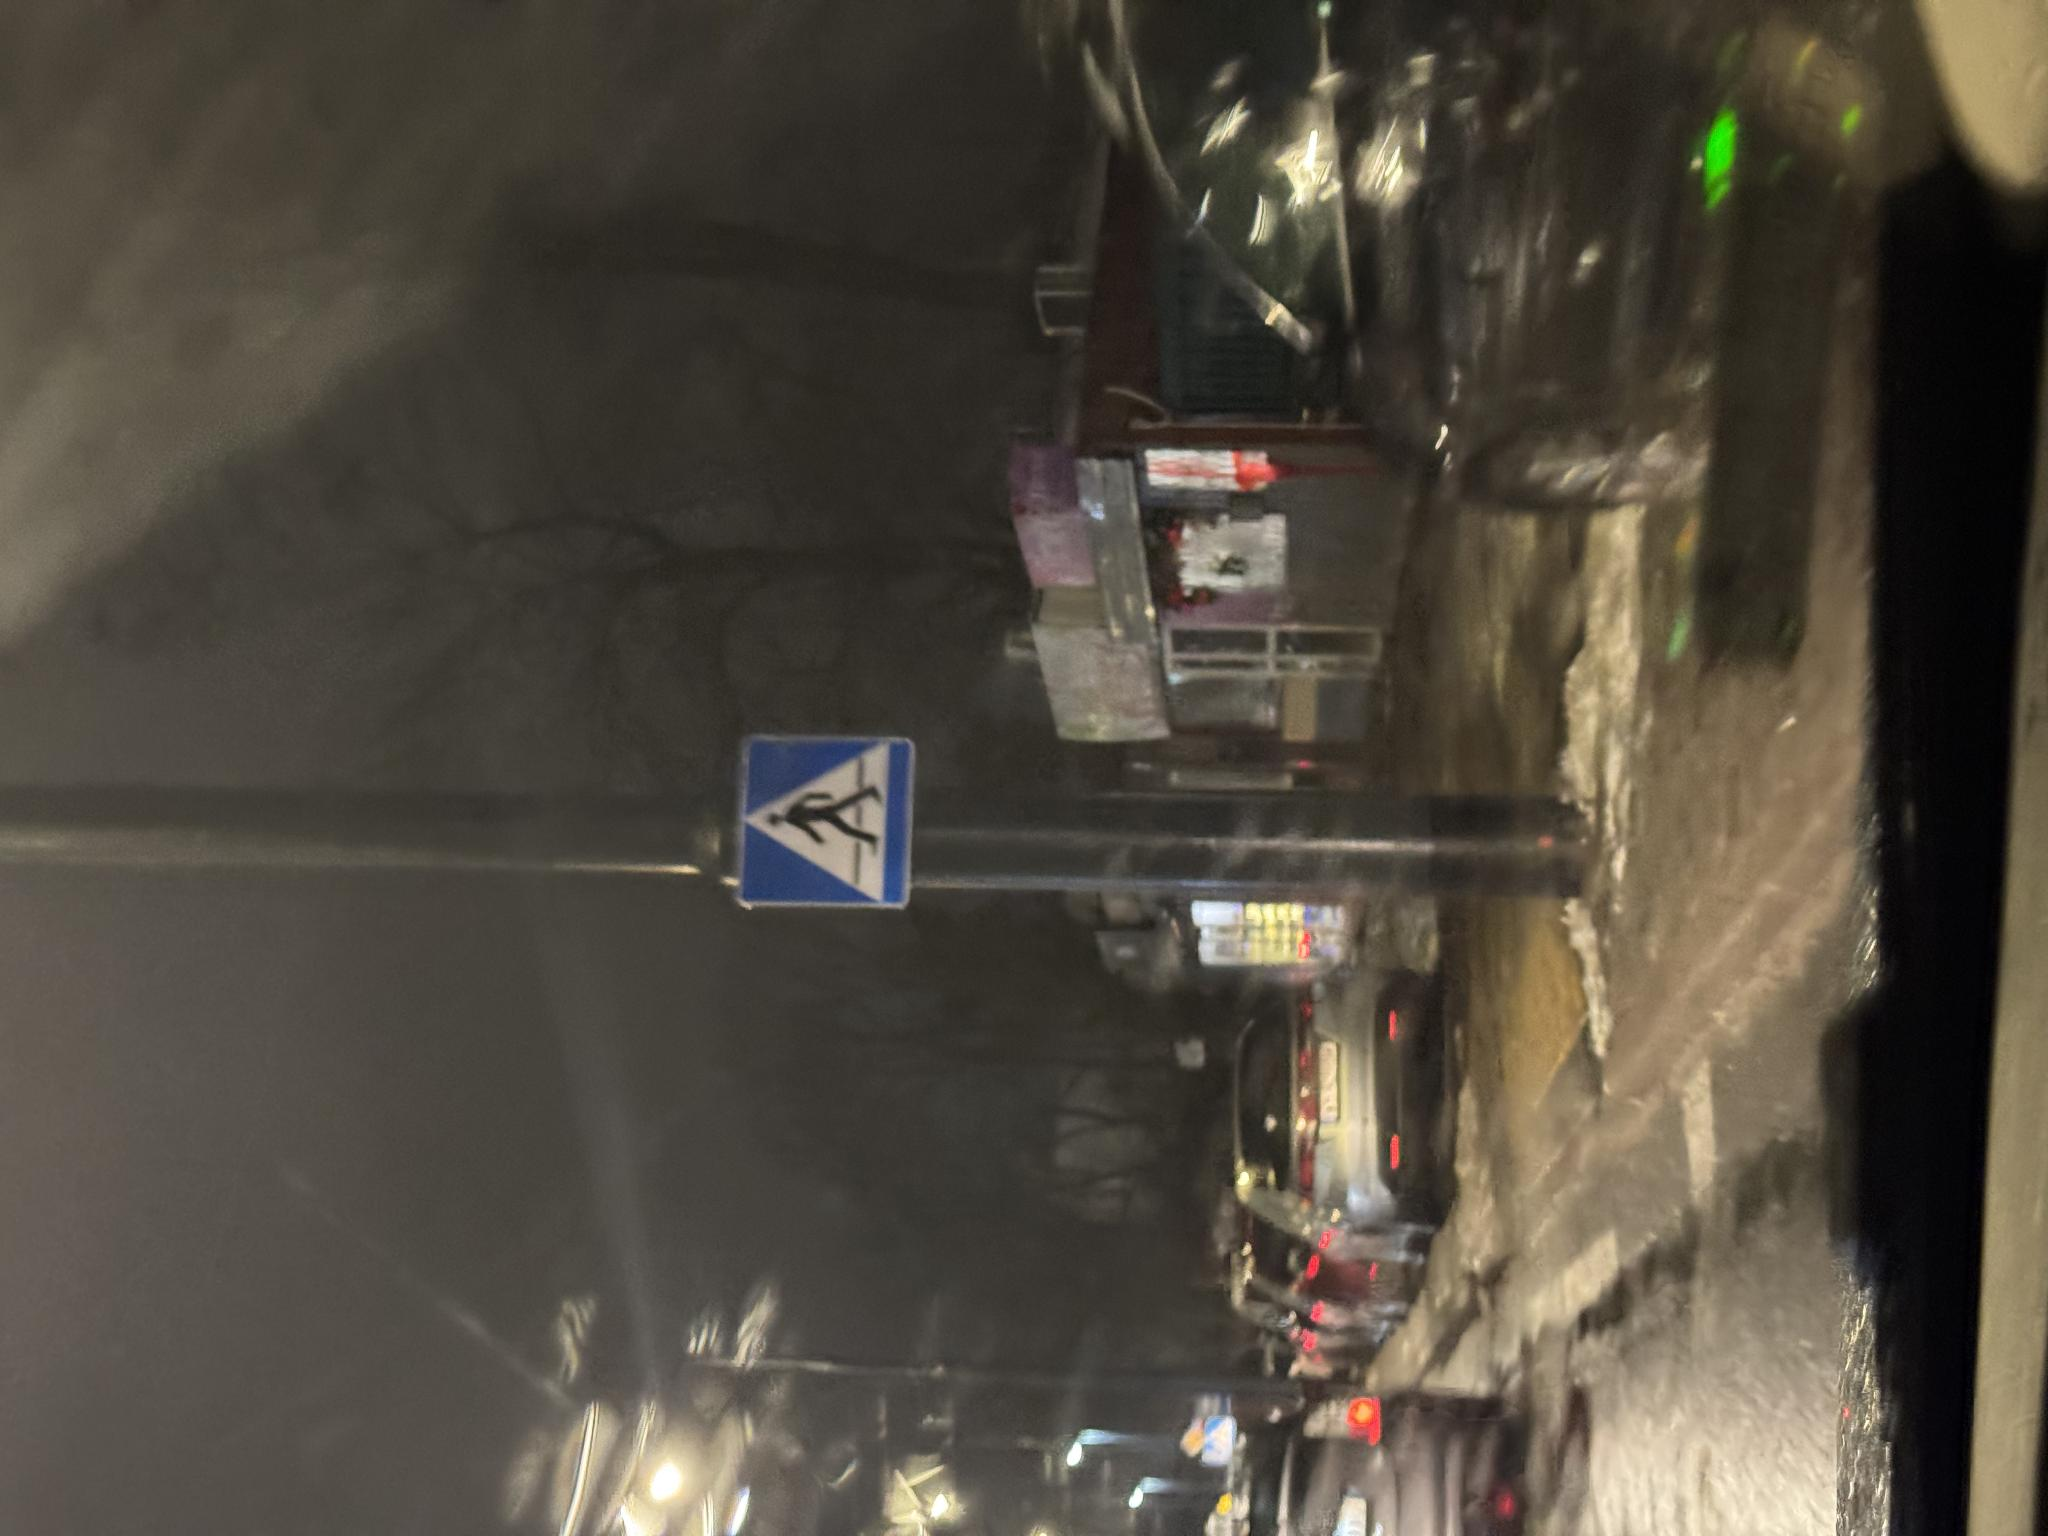information: (627, 736, 805, 916)
